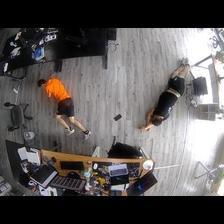fall: (137, 59, 191, 132), (36, 75, 92, 137)
